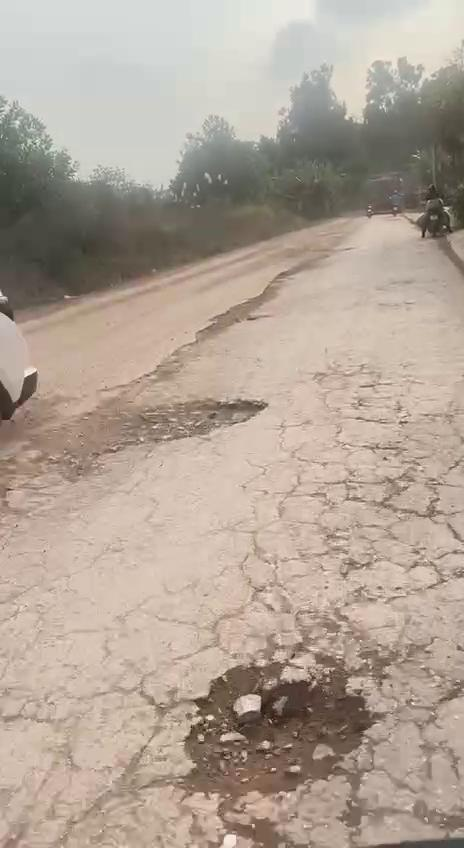pothole: (180, 643, 397, 848), (45, 392, 276, 477)
